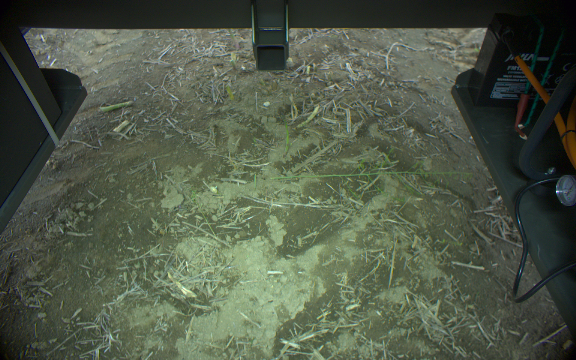aspa: (291, 104, 321, 132), (97, 97, 134, 112), (281, 117, 289, 158)
